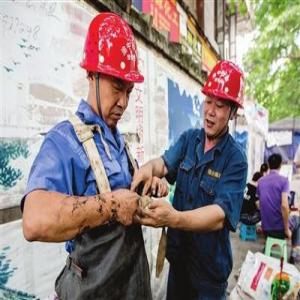none: (268, 152, 284, 177)
red: (84, 12, 142, 129), (204, 59, 247, 142)
